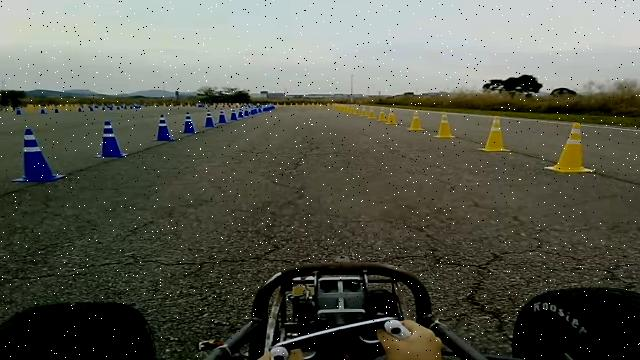blue cone: (11, 128, 66, 182), (93, 120, 129, 158), (151, 114, 175, 142), (180, 111, 198, 134), (202, 109, 217, 128), (217, 108, 227, 123), (229, 108, 238, 121)
yellow cone: (544, 121, 594, 173), (478, 115, 511, 152), (433, 112, 456, 138), (406, 110, 424, 130), (385, 110, 398, 125), (332, 102, 343, 112), (377, 111, 387, 121), (367, 109, 376, 119), (360, 107, 368, 117), (345, 106, 353, 114)
